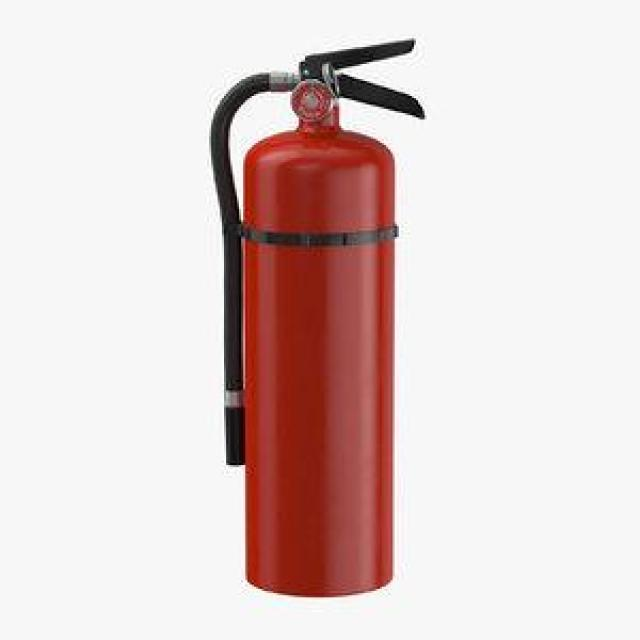fire_extinguisher: (202, 32, 428, 602)
